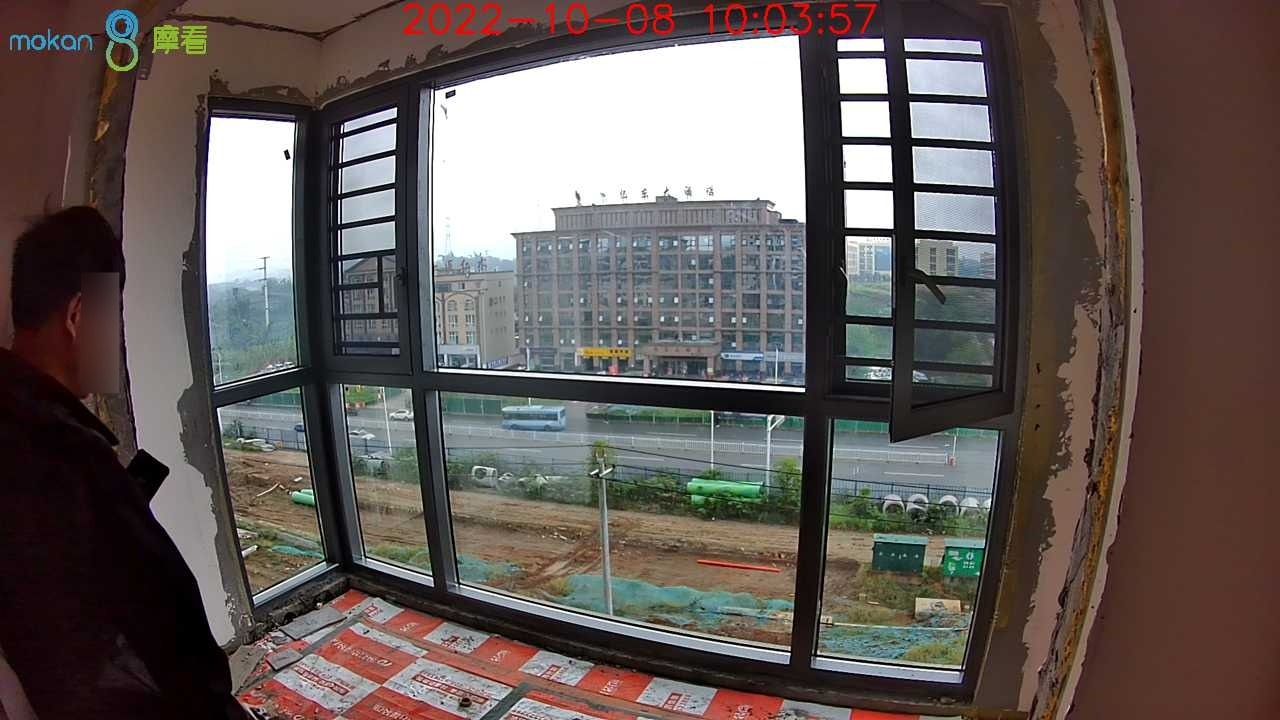people: (6, 205, 234, 720)
window: (204, 30, 1024, 696)
